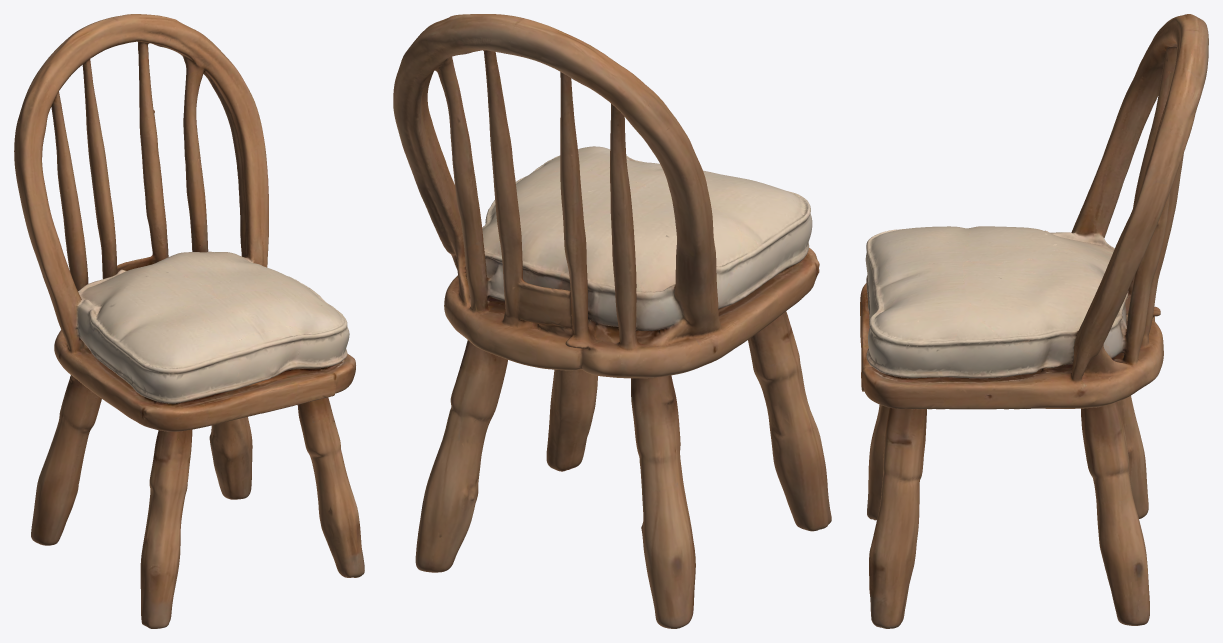
The model's file is study-chair.glb.
3 renders of one model, left to right at view 1: azimuth 30°, elevation 25°; view 2: azimuth 150°, elevation 25°; view 3: azimuth 270°, elevation 25°, orthographic. The views are drawn at different scales.
Bounding box in the file's own units: 1.04 × 2 × 1.17.
1 material, 1 textured.
